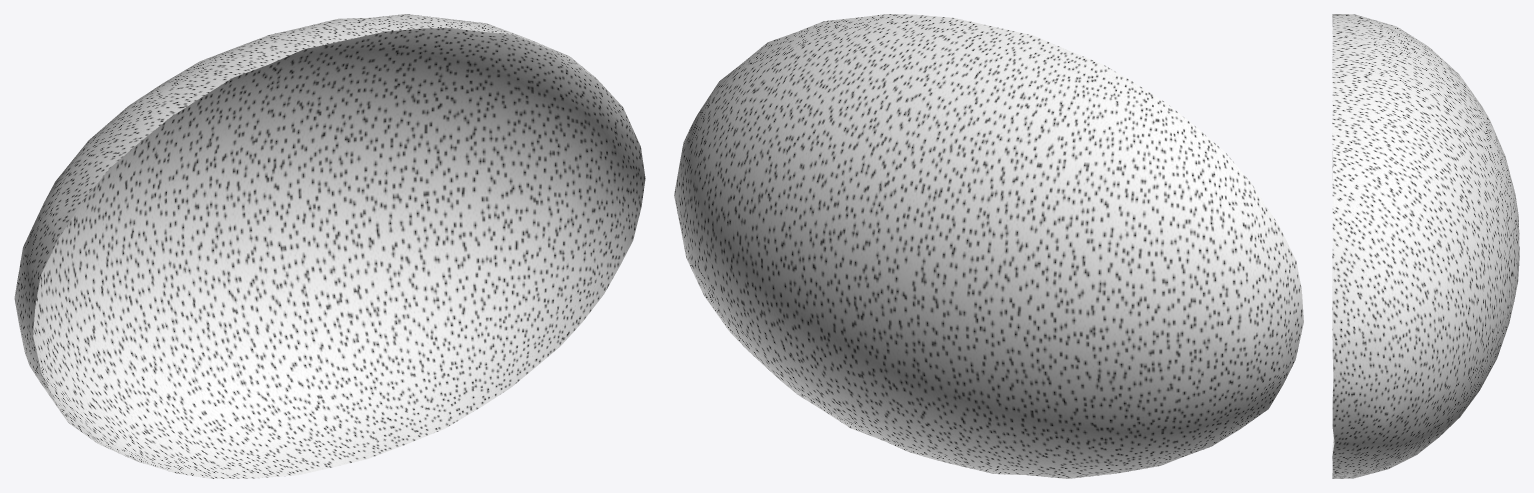
Rendered from texture_bubble.obj.
3 renders of one model, left to right at view 1: azimuth 30°, elevation 25°; view 2: azimuth 150°, elevation 25°; view 3: azimuth 270°, elevation 25°, orthographic. The views are drawn at different scales.
Size of the model in its own units: 0.109 by 0.0724 by 0.0323.
1 material, 1 textured.
